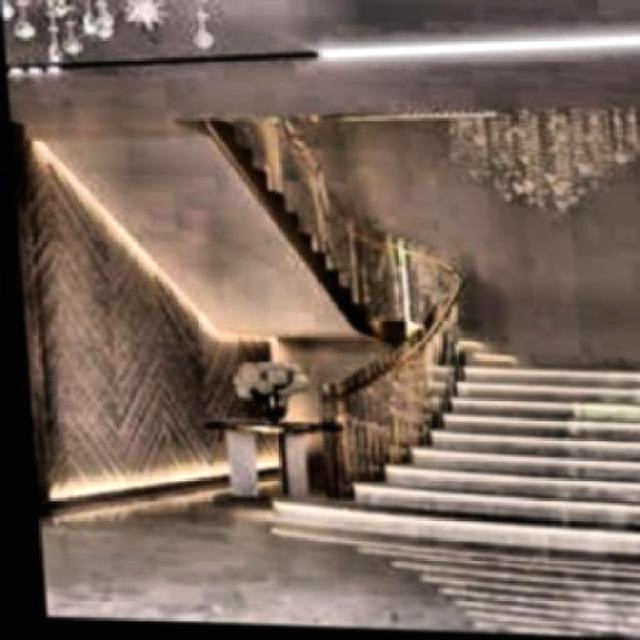stair: (252, 355, 640, 563)
